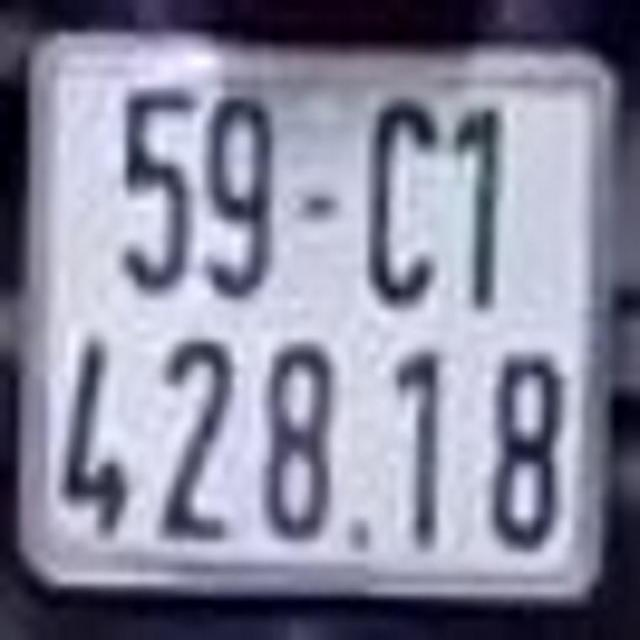1: (457, 95, 507, 308), (396, 342, 446, 548)
2: (152, 330, 235, 545)
4: (66, 340, 126, 540)
5: (122, 84, 198, 294)
8: (500, 358, 552, 552), (274, 345, 326, 538)
9: (206, 106, 276, 298)
C: (365, 99, 438, 311)
